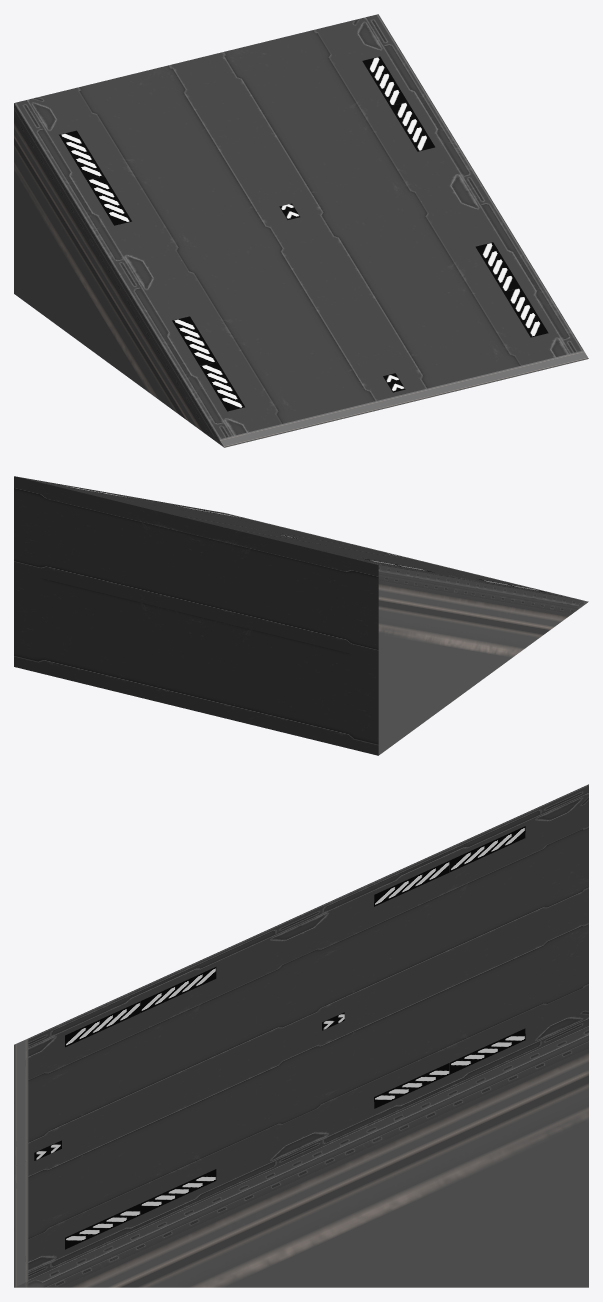
Rendered from Platform_Ramp_4Wide.gltf.
3 views of the same model, one above another, from view 1: azimuth 30°, elevation 25°; view 2: azimuth 150°, elevation 25°; view 3: azimuth 270°, elevation 25° (orthographic). The views are drawn at different scales.
Visible parts, largest first — view 1: Platform_Ramp_4Wide; view 2: Platform_Ramp_4Wide; view 3: Platform_Ramp_4Wide.
Part boxes in pixels (bbox=[...]): Platform_Ramp_4Wide: bbox=[14, 14, 588, 447]; Platform_Ramp_4Wide: bbox=[14, 476, 588, 755]; Platform_Ramp_4Wide: bbox=[14, 784, 588, 1287].
Bounding box in the file's own units: 4 × 2 × 4.
3 materials, 3 textured.
